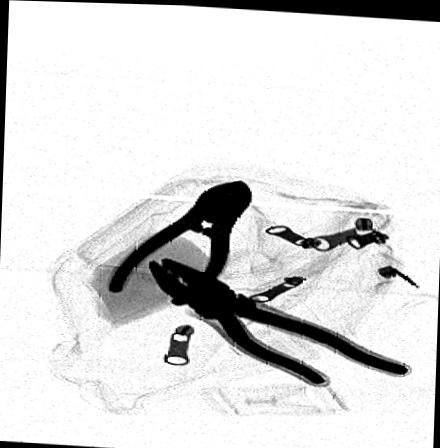Pliers: (135, 252, 412, 386), (101, 173, 256, 305)
